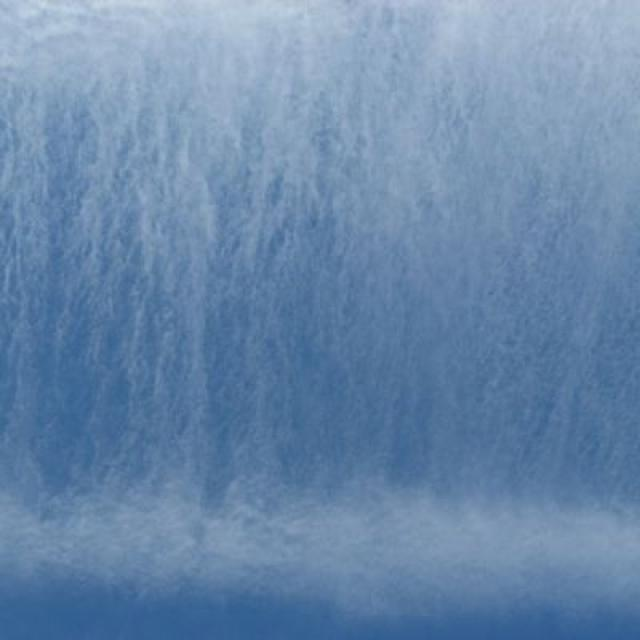Ci: (13, 15, 627, 552)
